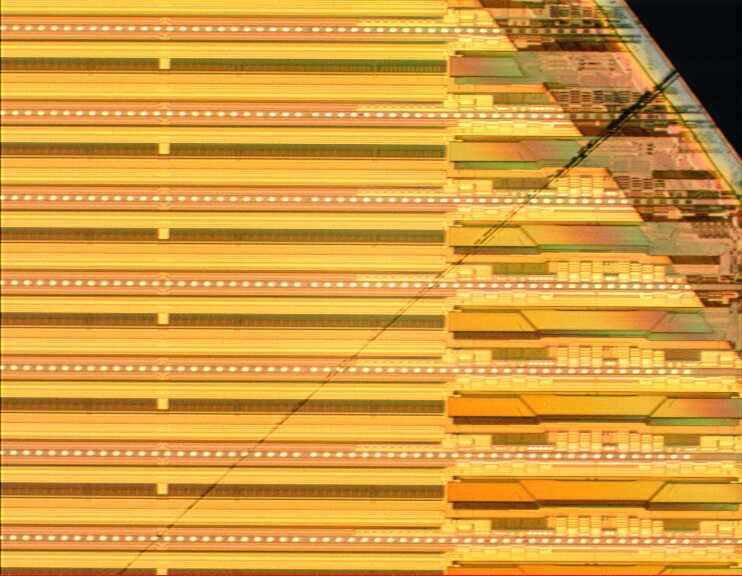SCRATCH: (106, 64, 686, 576)
